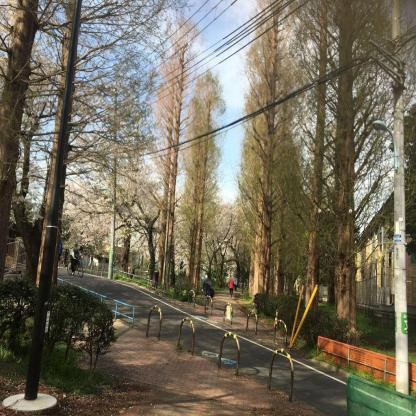Someiyoshino: (48, 106, 187, 272)
